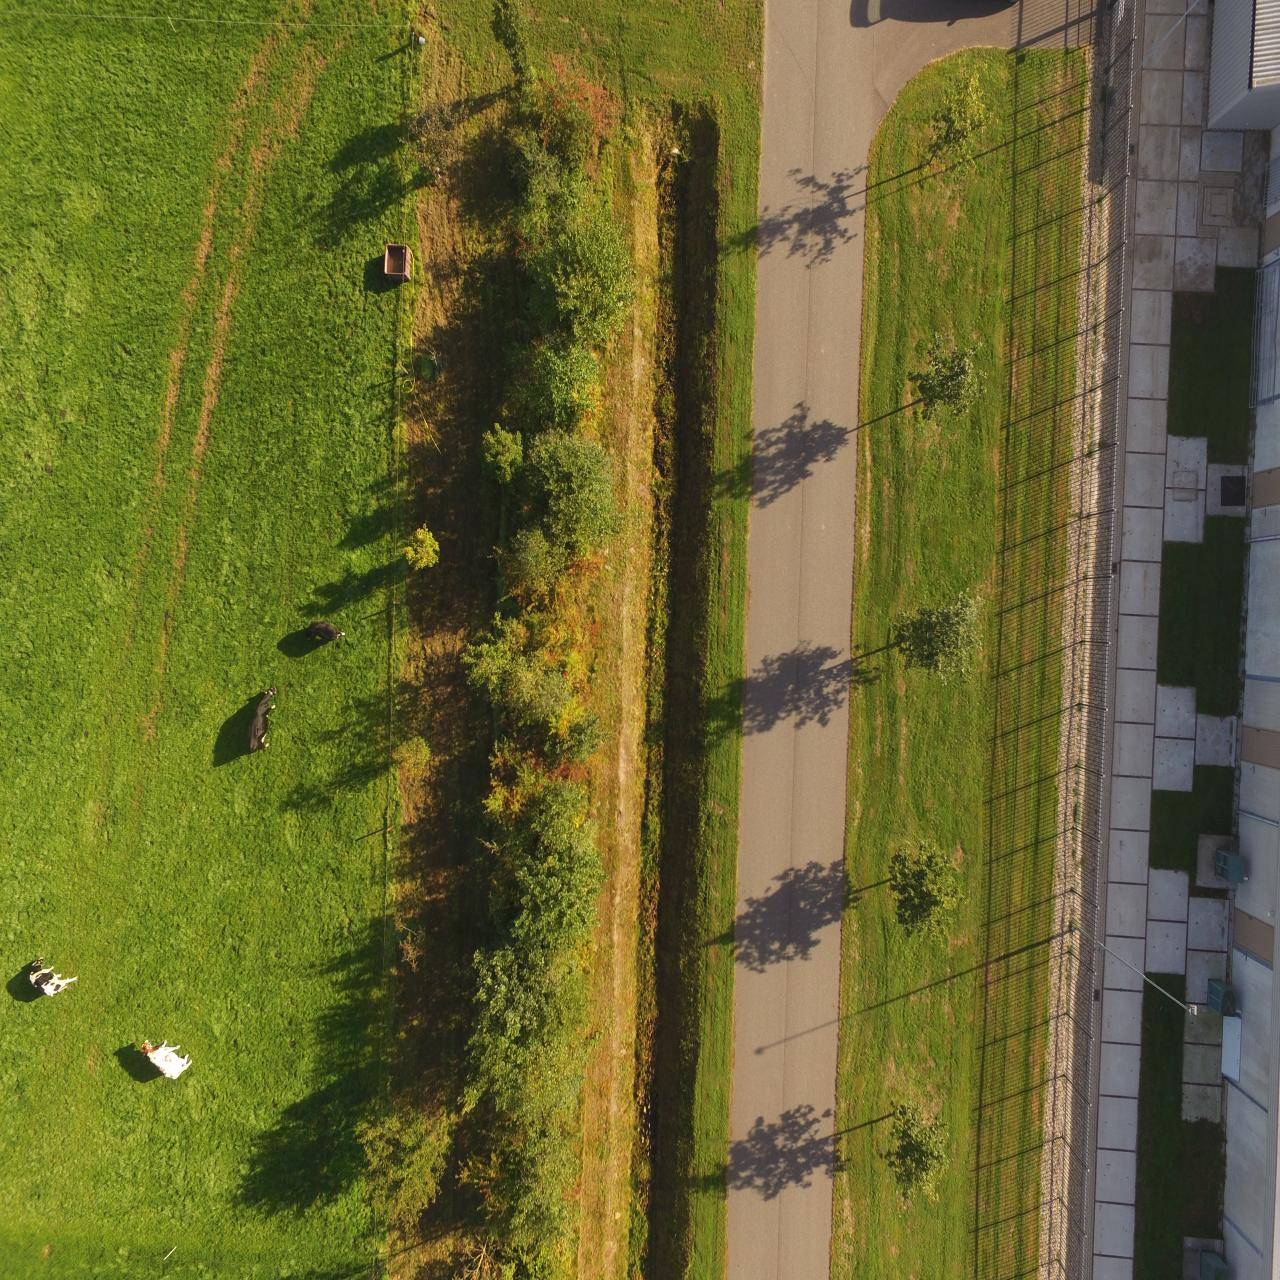cow: (139, 1039, 198, 1080), (244, 685, 279, 753), (29, 953, 80, 1000), (301, 618, 353, 642)
